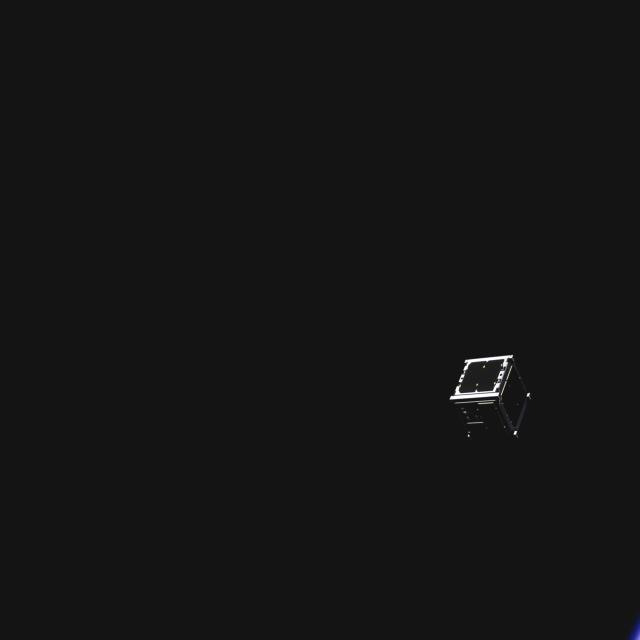medium_debris: (452, 352, 534, 454)
